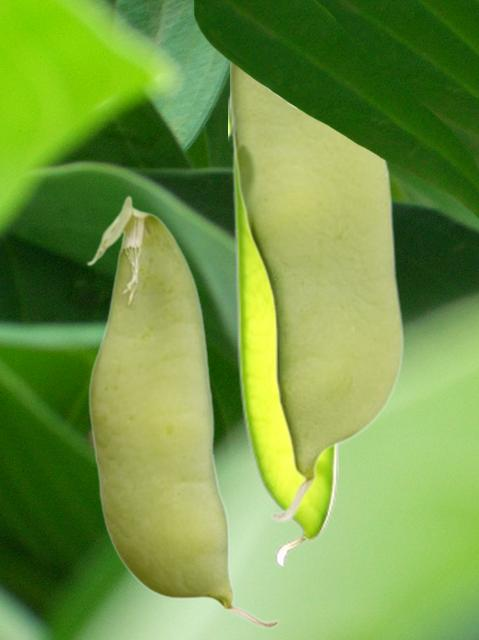pea: (86, 195, 280, 628), (230, 62, 403, 522), (228, 89, 337, 567)
